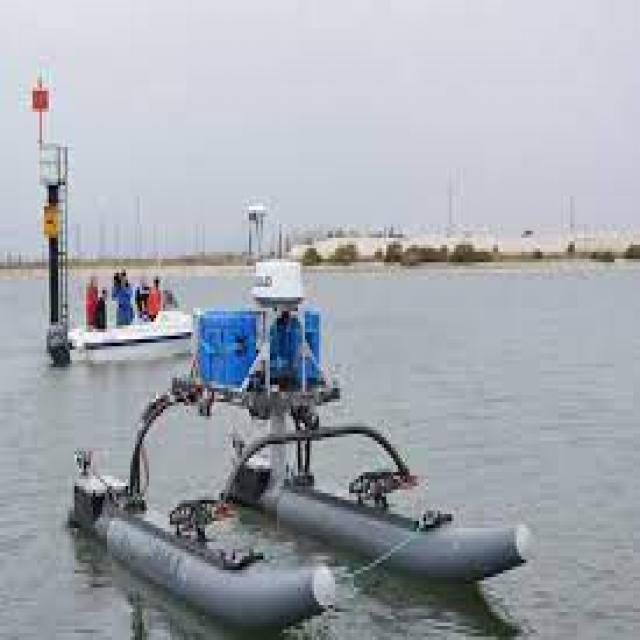Wam_V: (78, 378, 535, 630)
